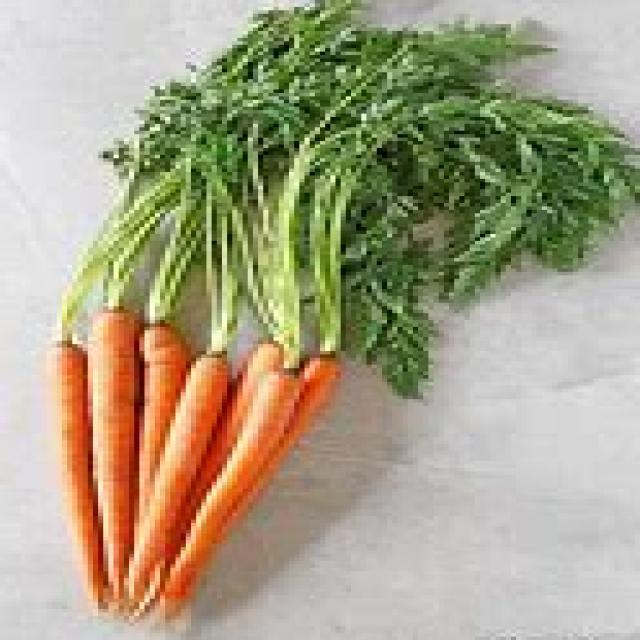carrot: (155, 371, 295, 607), (134, 357, 239, 604), (90, 307, 136, 604), (57, 345, 102, 601)
